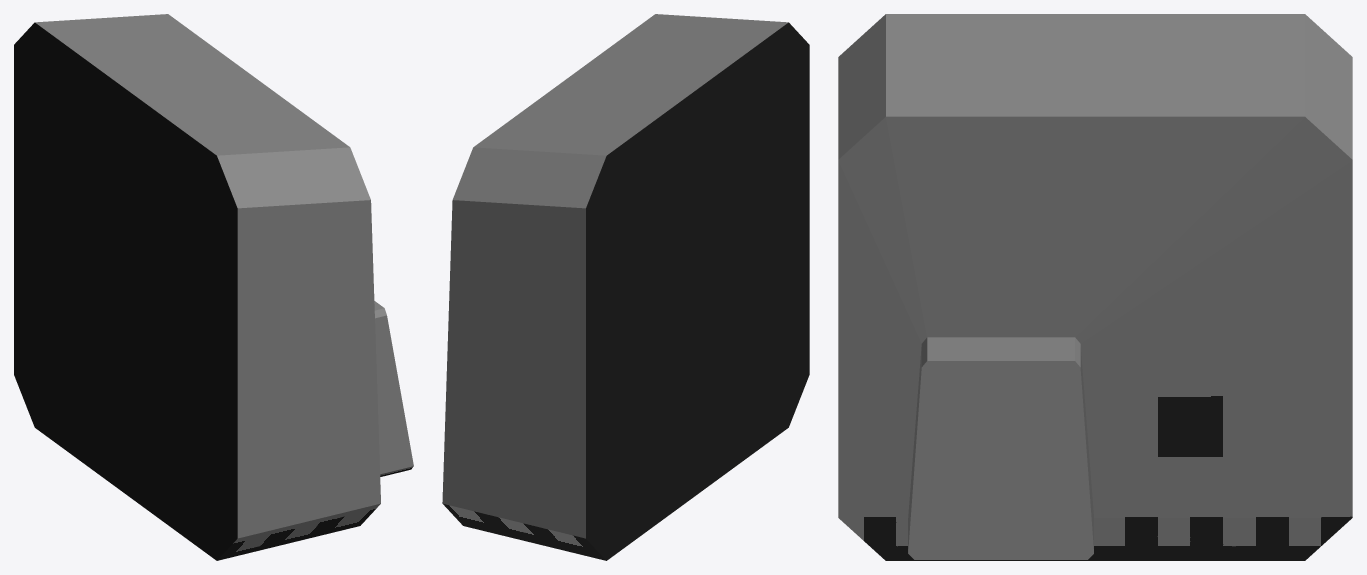
The model's file is dryer.fbx.
The picture shows the model from 3 angles, left to right: view 1: azimuth 30°, elevation 25°; view 2: azimuth 150°, elevation 25°; view 3: azimuth 270°, elevation 25°; orthographic projection. The views are drawn at different scales.
Visible parts, largest first — view 1: hand dryer; view 2: hand dryer; view 3: hand dryer.
Boxes of the visible parts, left/top/right/bottom form: hand dryer: left=14, top=14, right=413, bottom=560; hand dryer: left=442, top=14, right=809, bottom=560; hand dryer: left=838, top=14, right=1352, bottom=560.
Bounding box in the file's own units: 1.82 × 3.4 × 3.4.
